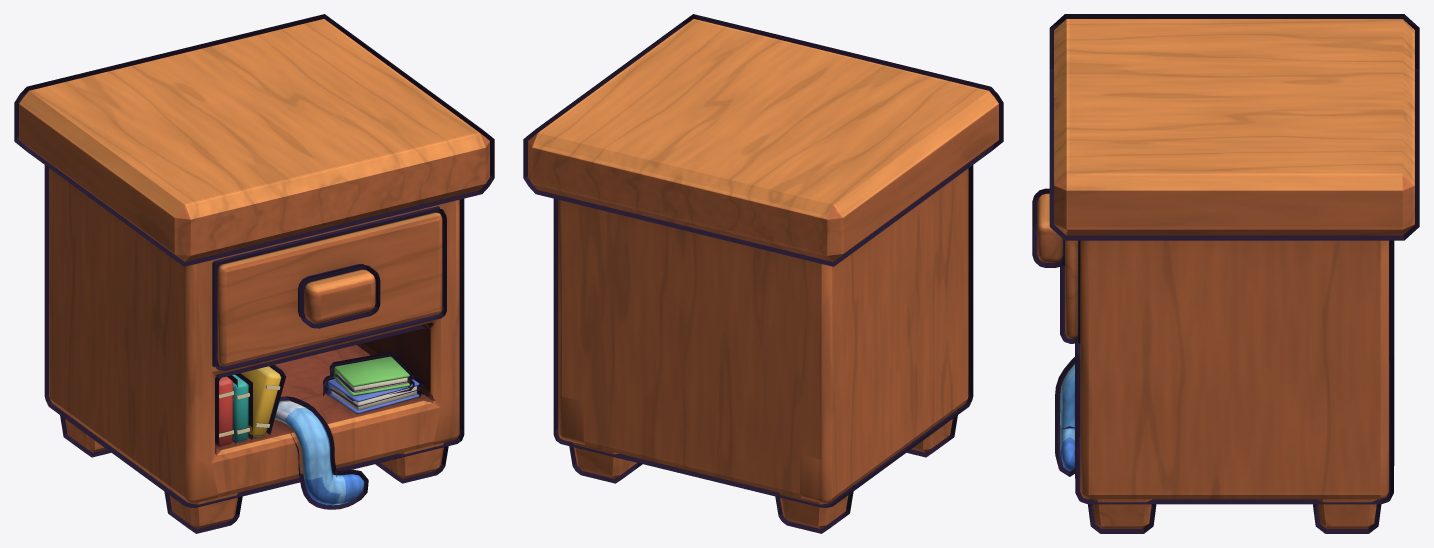
Rendered from Nightstand.glb.
3 views of the same model, side by side, from view 1: azimuth 30°, elevation 25°; view 2: azimuth 150°, elevation 25°; view 3: azimuth 270°, elevation 25° (orthographic). The views are drawn at different scales.
Parts seen in each view (by area): view 1: Nightstand, Nightstand_Outline; view 2: Nightstand, Nightstand_Outline; view 3: Nightstand, Nightstand_Outline.
Boxes of the visible parts, box(x1,y1,x2,y2) form: Nightstand: box(19, 19, 489, 528); Nightstand_Outline: box(14, 14, 494, 533); Nightstand: box(528, 19, 998, 528); Nightstand_Outline: box(523, 14, 1003, 533); Nightstand: box(1037, 19, 1414, 528); Nightstand_Outline: box(1032, 14, 1419, 533).
Bounding box in the file's own units: 7.68 × 7.98 × 7.41.
2 materials, 2 textured.
